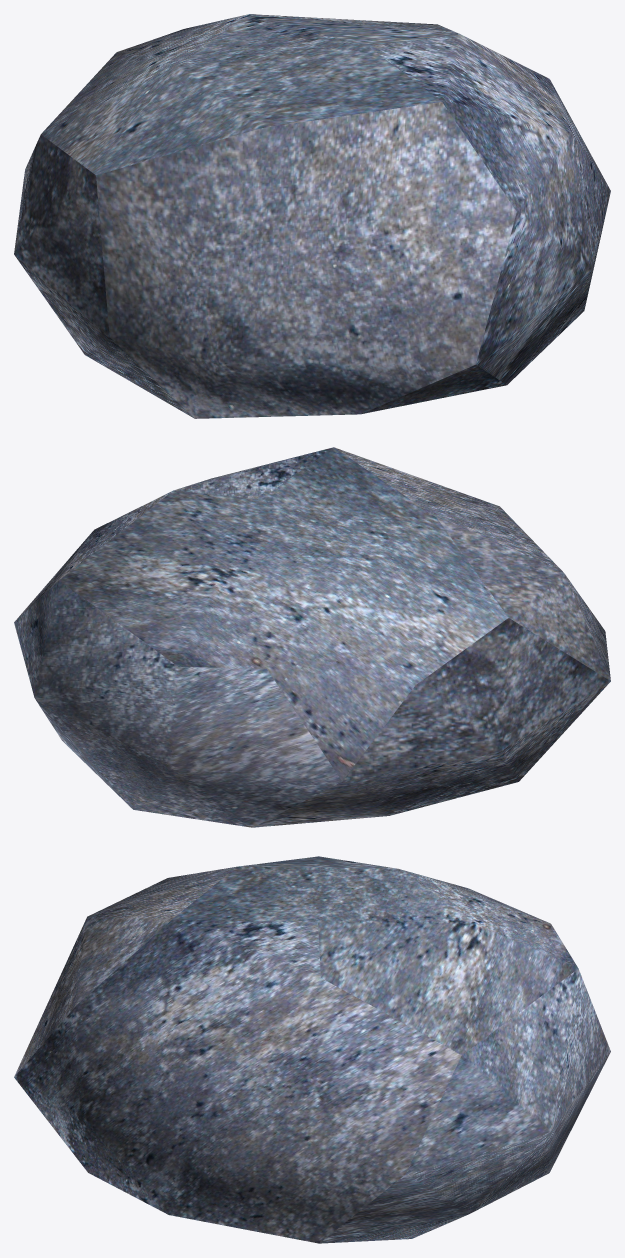
File: bluerock.fbx
3 views of the same model, one above another, from view 1: azimuth 30°, elevation 25°; view 2: azimuth 150°, elevation 25°; view 3: azimuth 270°, elevation 25° (orthographic). The views are drawn at different scales.
Visible parts, largest first — view 1: Icosphere; view 2: Icosphere; view 3: Icosphere.
Part boxes in pixels (box(x1,y1,x2,y2)): Icosphere: box(14, 14, 610, 418); Icosphere: box(14, 447, 610, 827); Icosphere: box(14, 856, 610, 1243).
Bounding box in the file's own units: 15.24 × 8.09 × 15.21.
Materials: 1 (1 with a texture image).
